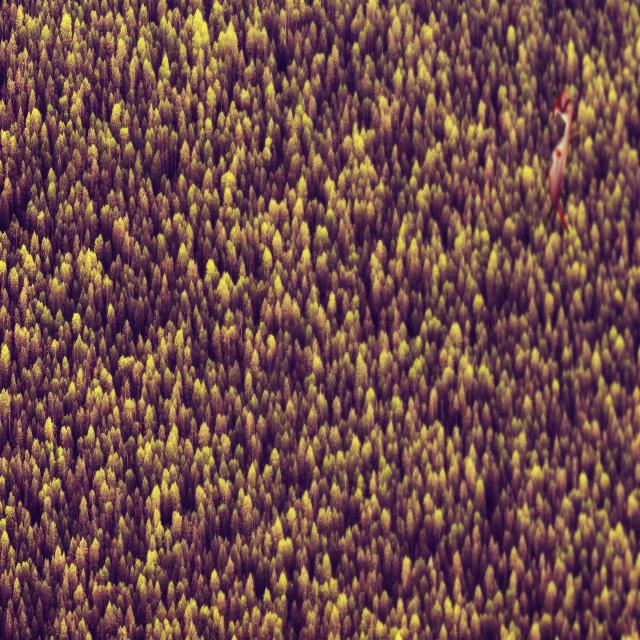airplane: (544, 88, 573, 232)
